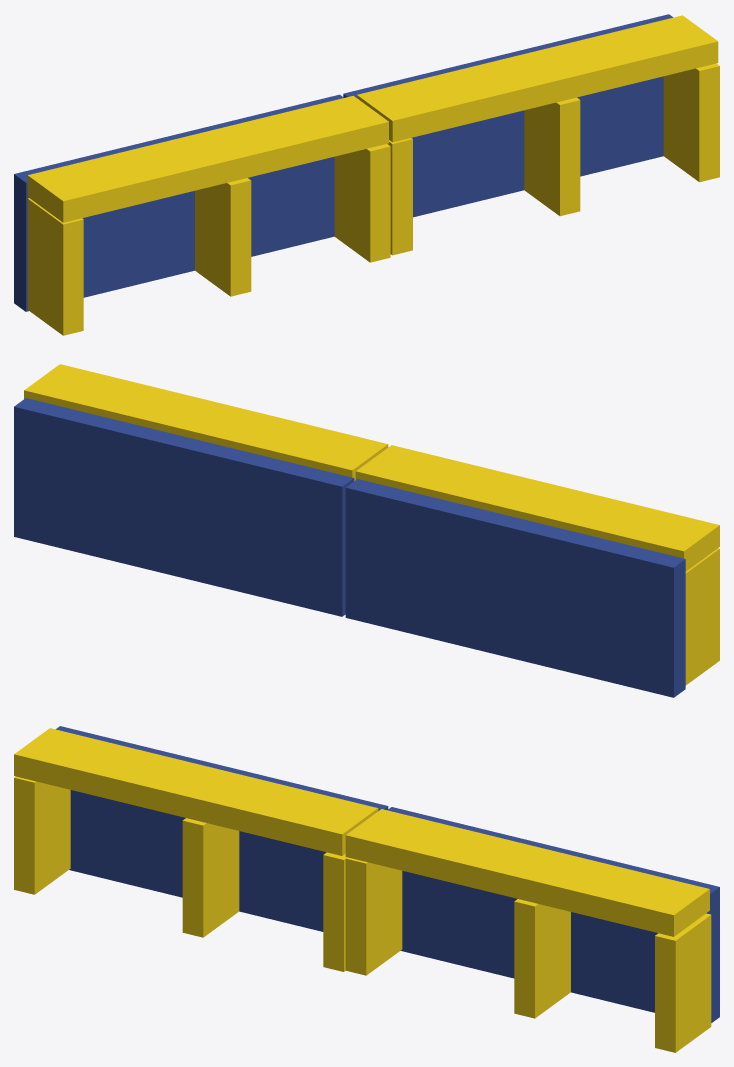
File: tinker.obj
3 views of the same model, one above another, from view 1: azimuth 30°, elevation 25°; view 2: azimuth 150°, elevation 25°; view 3: azimuth 330°, elevation 25° (orthographic).
Visible parts, largest first — view 1: obj_1, obj_0, obj_6, obj_5, obj_2, obj_4, obj_9, obj_3, obj_8, obj_7; view 2: obj_0, obj_5, obj_1, obj_6, obj_2; view 3: obj_6, obj_1, obj_5, obj_0, obj_8, obj_4, obj_9, obj_7, obj_2, obj_3.
Part boxes in pixels (x1,y1,x2,y2): obj_1: [27, 95, 388, 222]; obj_0: [14, 94, 343, 311]; obj_6: [357, 15, 718, 142]; obj_5: [343, 14, 673, 217]; obj_2: [27, 198, 83, 335]; obj_4: [195, 178, 251, 296]; obj_9: [524, 97, 580, 216]; obj_3: [334, 144, 390, 262]; obj_8: [663, 63, 719, 182]; obj_7: [387, 138, 412, 255]; obj_0: [345, 479, 685, 697]; obj_5: [14, 398, 354, 616]; obj_1: [355, 445, 719, 571]; obj_6: [24, 364, 388, 480]; obj_2: [685, 548, 719, 685]; obj_6: [345, 809, 709, 936]; obj_1: [14, 728, 378, 855]; obj_5: [387, 807, 719, 1022]; obj_0: [56, 726, 388, 931]; obj_8: [655, 913, 711, 1052]; obj_4: [182, 818, 239, 937]; obj_9: [514, 899, 570, 1018]; obj_7: [345, 857, 402, 975]; obj_2: [14, 776, 70, 894]; obj_3: [323, 852, 346, 971].
Bounding box in the file's own units: 384 × 75.97 × 48.
